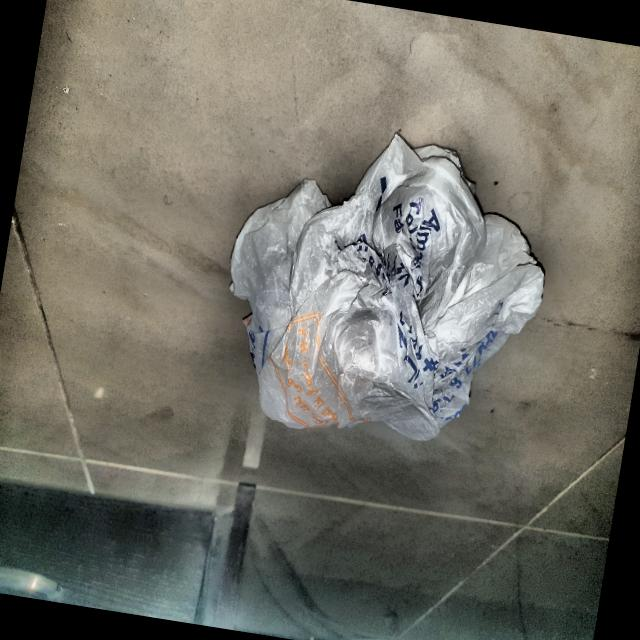plastic bag: (198, 106, 568, 462)
